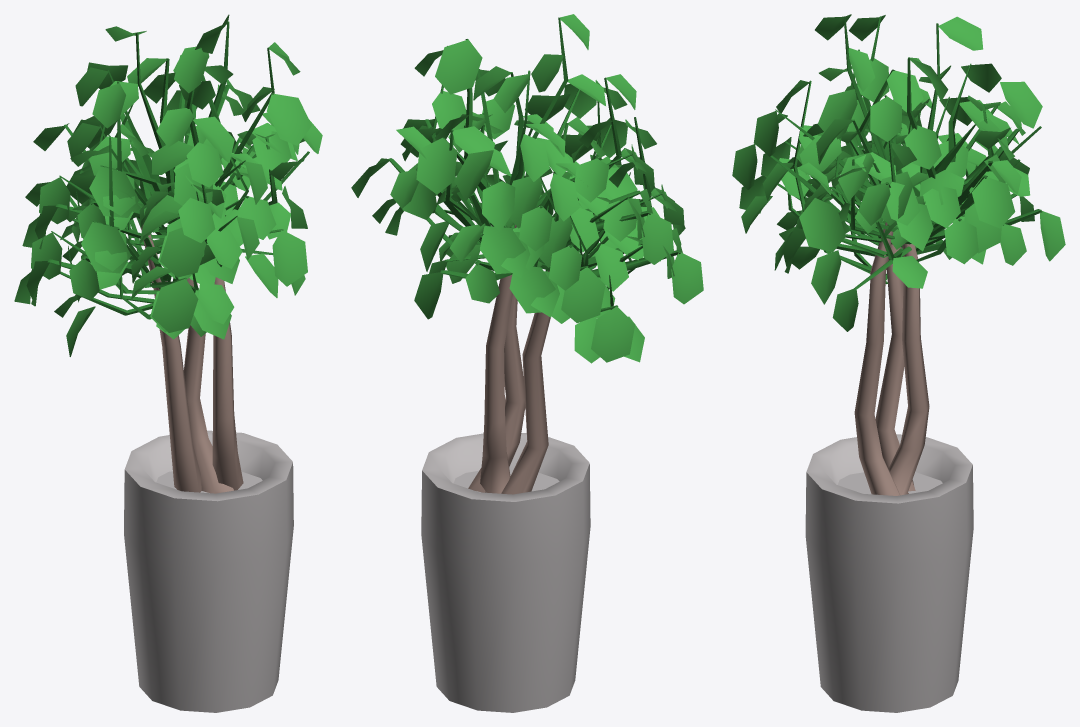
The model's file is flower.glb.
3 renders of one model, left to right at view 1: azimuth 30°, elevation 25°; view 2: azimuth 150°, elevation 25°; view 3: azimuth 270°, elevation 25°, orthographic.
Visible parts, largest first — view 1: flower; view 2: flower; view 3: flower.
Boxes of the visible parts, bbox=[...] form: flower: bbox=[14, 14, 322, 712]; flower: bbox=[351, 14, 703, 712]; flower: bbox=[732, 14, 1065, 712].
Bounding box in the file's own units: 0.7649 × 1.62 × 0.7509.
1 material, 1 textured.
